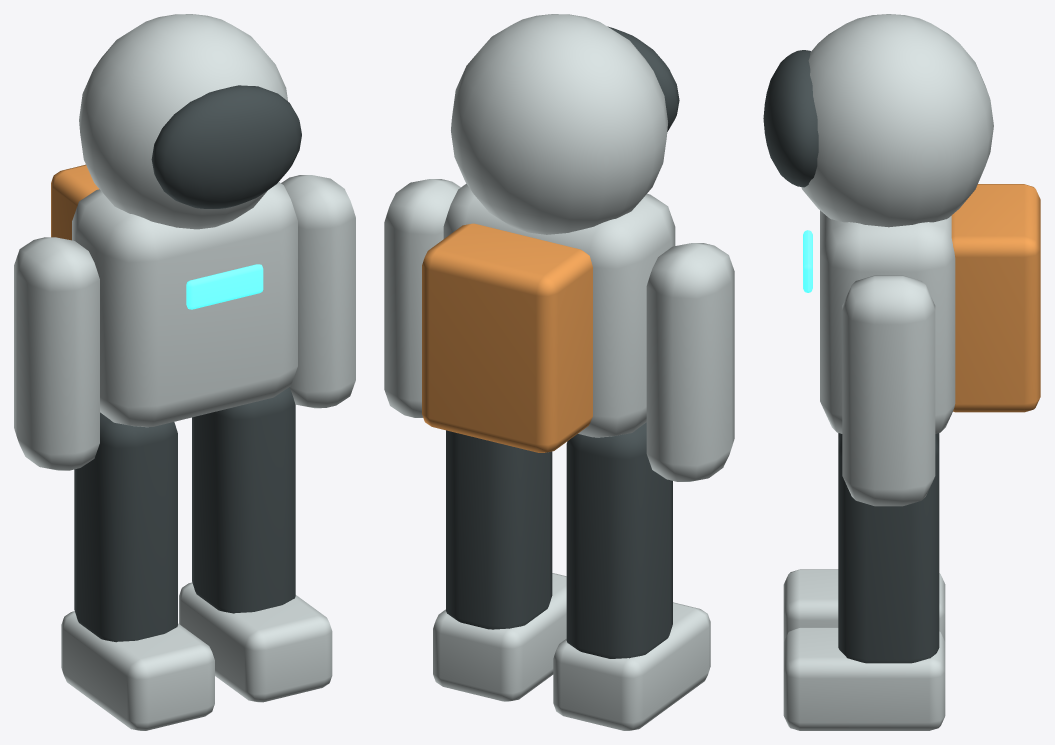
File: astronaut.glb
3 views of the same model, side by side, from view 1: azimuth 30°, elevation 25°; view 2: azimuth 150°, elevation 25°; view 3: azimuth 270°, elevation 25° (orthographic). The views are drawn at different scales.
Parts seen in each view (by area): view 1: suit torso, helmet, leg.001, leg, arm, visor, arm.001, boot, boot.001, chest signal, oxygen pack; view 2: helmet, oxygen pack, leg, arm, leg.001, suit torso, boot, arm.001, boot.001, visor; view 3: helmet, arm.001, oxygen pack, leg.001, suit torso, boot.001, visor, boot, chest signal.
Boxes of the visible parts, left/top/right/bottom form: suit torso: left=72, top=182, right=297, bottom=427; helmet: left=79, top=14, right=287, bottom=229; leg.001: left=192, top=387, right=295, bottom=613; leg: left=74, top=412, right=177, bottom=642; arm: left=14, top=237, right=99, bottom=470; visor: left=151, top=85, right=301, bottom=208; arm.001: left=281, top=175, right=355, bottom=408; boot: left=61, top=611, right=214, bottom=730; boot.001: left=179, top=582, right=332, bottom=702; chest signal: left=186, top=264, right=263, bottom=309; oxygen pack: left=51, top=164, right=98, bottom=240; helmet: left=451, top=14, right=667, bottom=234; oxygen pack: left=422, top=223, right=592, bottom=452; leg: left=566, top=422, right=672, bottom=658; arm: left=646, top=243, right=734, bottom=481; leg.001: left=446, top=430, right=552, bottom=629; suit torso: left=443, top=183, right=675, bottom=437; boot: left=553, top=602, right=710, bottom=730; arm.001: left=384, top=179, right=460, bottom=417; boot.001: left=433, top=573, right=566, bottom=701; visor: left=607, top=26, right=679, bottom=131; helmet: left=801, top=14, right=993, bottom=227; arm.001: left=842, top=275, right=935, bottom=506; oxygen pack: left=951, top=184, right=1040, bottom=412; leg.001: left=838, top=434, right=939, bottom=663; suit torso: left=820, top=210, right=955, bottom=433; boot.001: left=783, top=627, right=945, bottom=730; visor: left=763, top=50, right=818, bottom=187; boot: left=783, top=569, right=945, bottom=641; chest signal: left=803, top=230, right=812, bottom=292.
Size of the model in its own units: 0.93 by 1.81 by 0.685.
